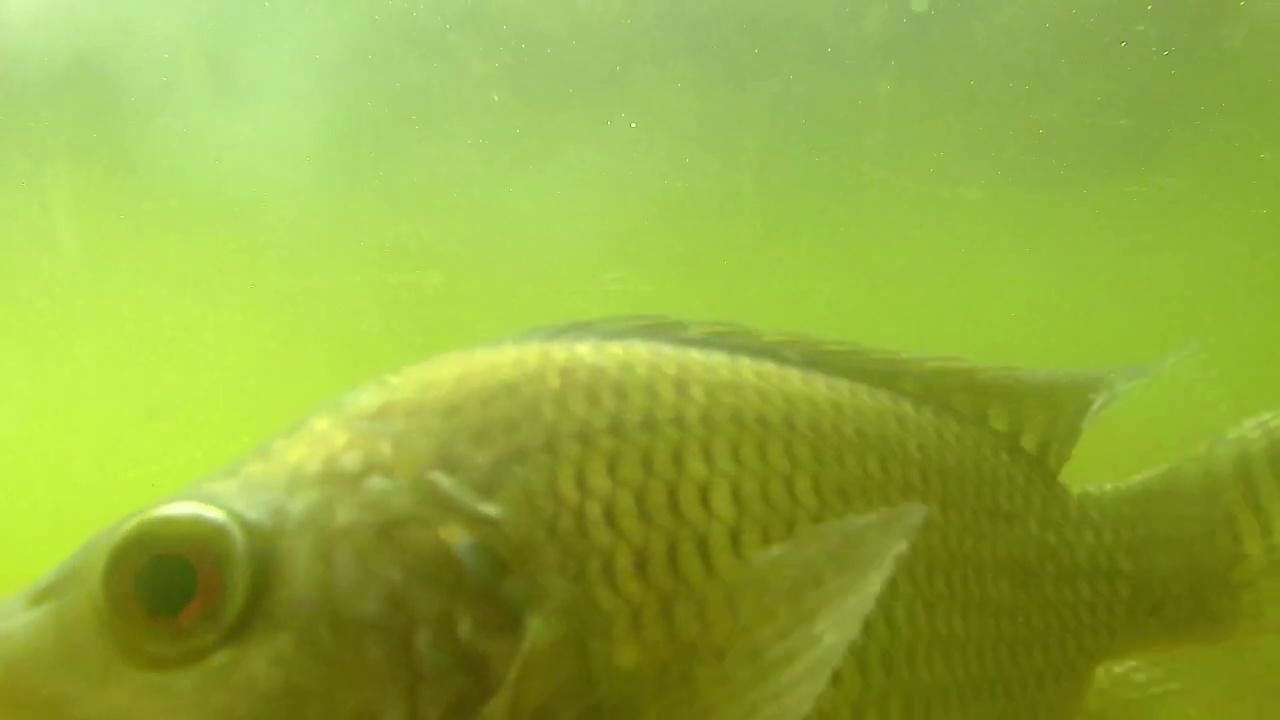Tilapia: (5, 304, 1280, 720)
